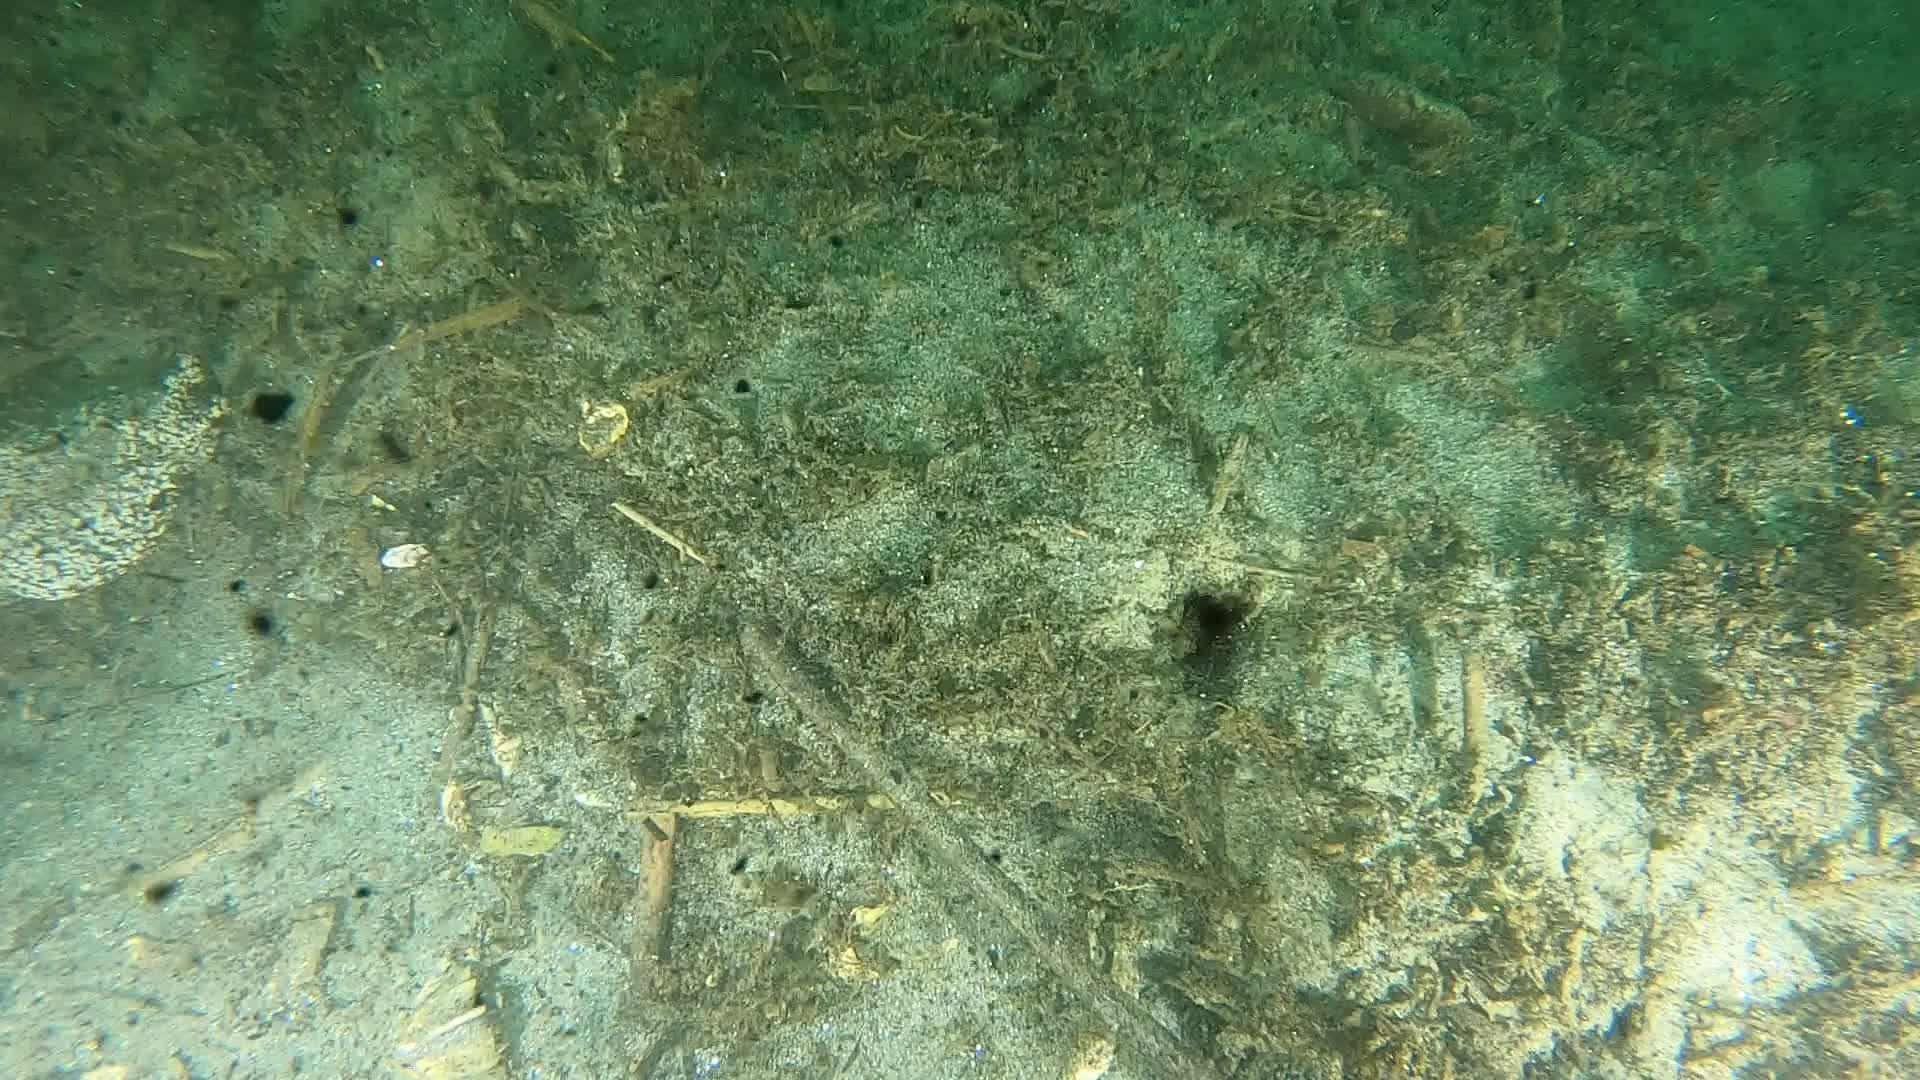wood: (740, 622, 1209, 1080)
